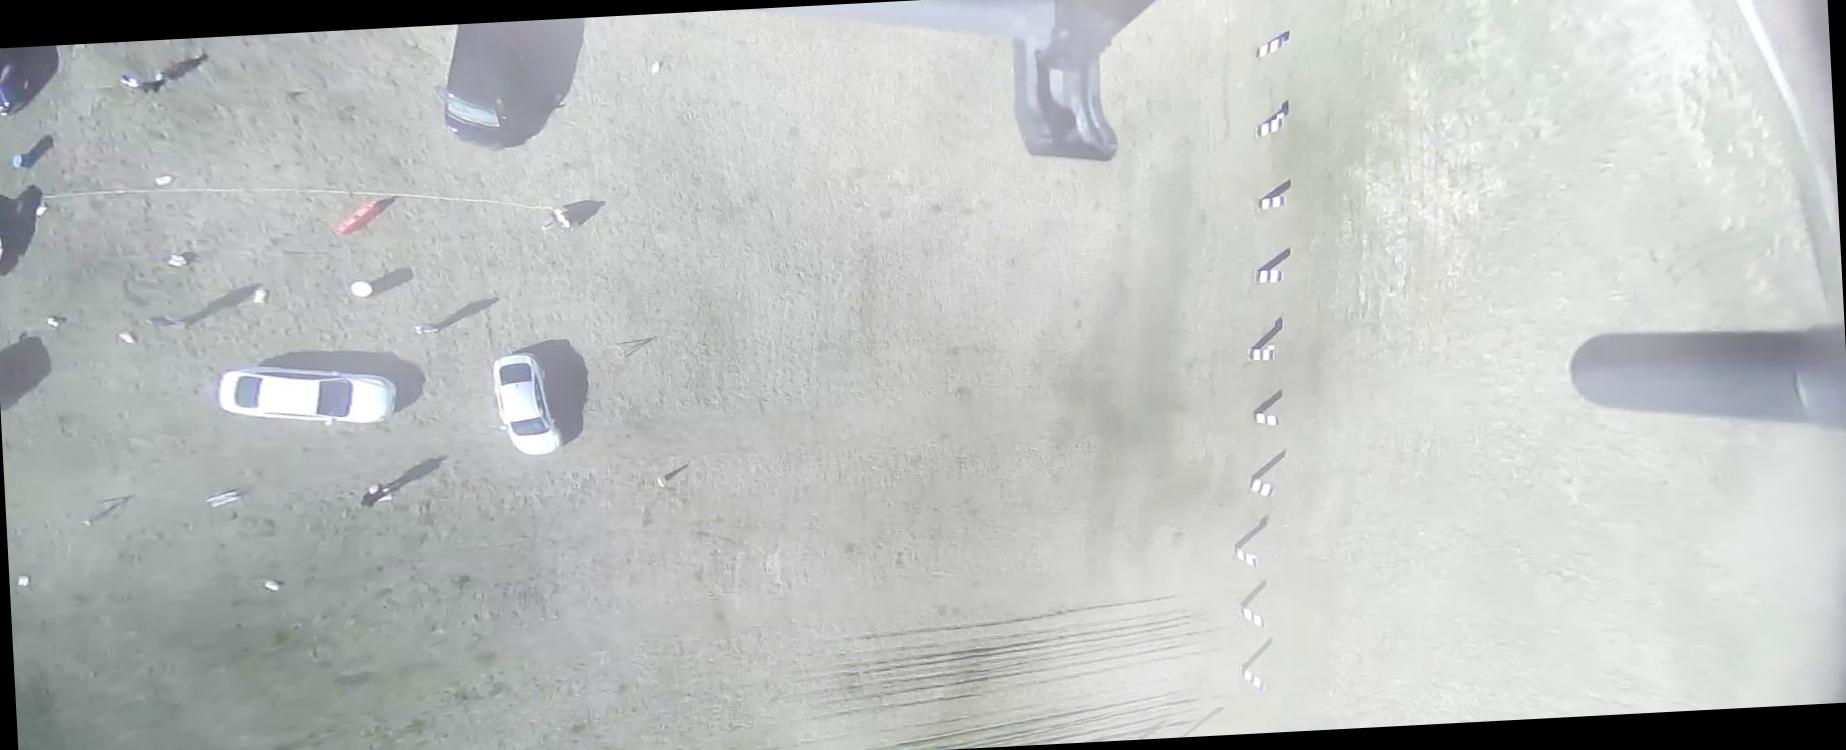vehicle: (216, 358, 398, 432), (430, 20, 528, 154), (492, 349, 564, 457), (0, 46, 36, 118), (0, 348, 27, 412), (0, 222, 8, 274)
